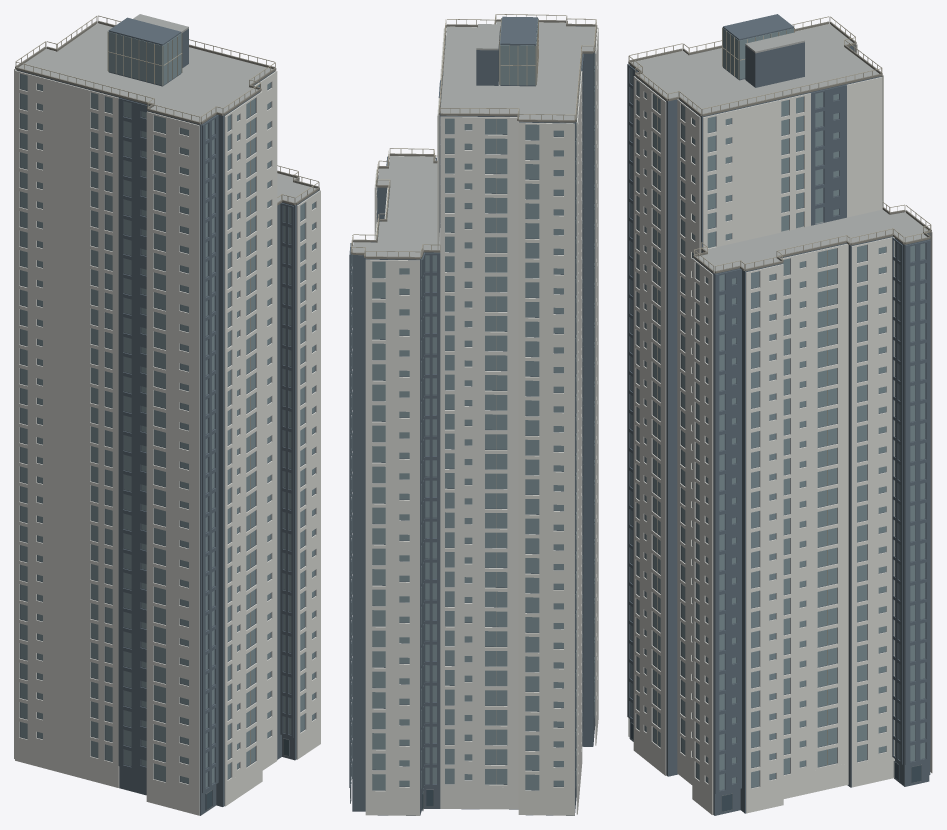
Rendered from bespoke-raemian-onebailey-119.glb.
3 views of the same model, side by side, from view 1: azimuth 30°, elevation 25°; view 2: azimuth 150°, elevation 25°; view 3: azimuth 270°, elevation 25° (orthographic). The views are drawn at different scales.
Parts seen in each view (by area): view 1: 119_pale_bays_navy_shafts_5, 119_editable_massing, 119_pale_bays_navy_shafts_1, 119_glass_roof_crown_4, 119_pale_bays_navy_shafts_3, 119_glass_roof_crown_1; view 2: 119_pale_bays_navy_shafts_5, 119_pale_bays_navy_shafts_1, 119_editable_massing, 119_glass_roof_crown_4, 119_pale_bays_navy_shafts_3, 119_glass_roof_crown_1; view 3: 119_pale_bays_navy_shafts_5, 119_editable_massing, 119_pale_bays_navy_shafts_1, 119_glass_roof_crown_4, 119_pale_bays_navy_shafts_3, 119_glass_roof_crown_1, 119_pale_bays_navy_shafts_2.
Boxes of the visible parts, x1=… form: 119_pale_bays_navy_shafts_5: x1=14, y1=25, x2=320, y2=815; 119_editable_massing: x1=16, y1=17, x2=319, y2=815; 119_pale_bays_navy_shafts_1: x1=20, y1=31, x2=314, y2=787; 119_glass_roof_crown_4: x1=19, y1=14, x2=316, y2=205; 119_pale_bays_navy_shafts_3: x1=15, y1=15, x2=319, y2=764; 119_glass_roof_crown_1: x1=15, y1=21, x2=319, y2=205; 119_pale_bays_navy_shafts_5: x1=365, y1=21, x2=598, y2=815; 119_pale_bays_navy_shafts_1: x1=351, y1=18, x2=595, y2=790; 119_editable_massing: x1=349, y1=16, x2=595, y2=815; 119_glass_roof_crown_4: x1=352, y1=22, x2=595, y2=259; 119_pale_bays_navy_shafts_3: x1=351, y1=14, x2=596, y2=784; 119_glass_roof_crown_1: x1=350, y1=19, x2=597, y2=259; 119_pale_bays_navy_shafts_5: x1=628, y1=24, x2=932, y2=814; 119_editable_massing: x1=627, y1=14, x2=930, y2=815; 119_pale_bays_navy_shafts_1: x1=631, y1=28, x2=925, y2=790; 119_glass_roof_crown_4: x1=631, y1=24, x2=927, y2=273; 119_pale_bays_navy_shafts_3: x1=628, y1=16, x2=931, y2=765; 119_glass_roof_crown_1: x1=628, y1=21, x2=931, y2=273; 119_pale_bays_navy_shafts_2: x1=630, y1=722, x2=921, y2=811.
Size of the model in its own units: 38.66 by 110 by 42.31.
